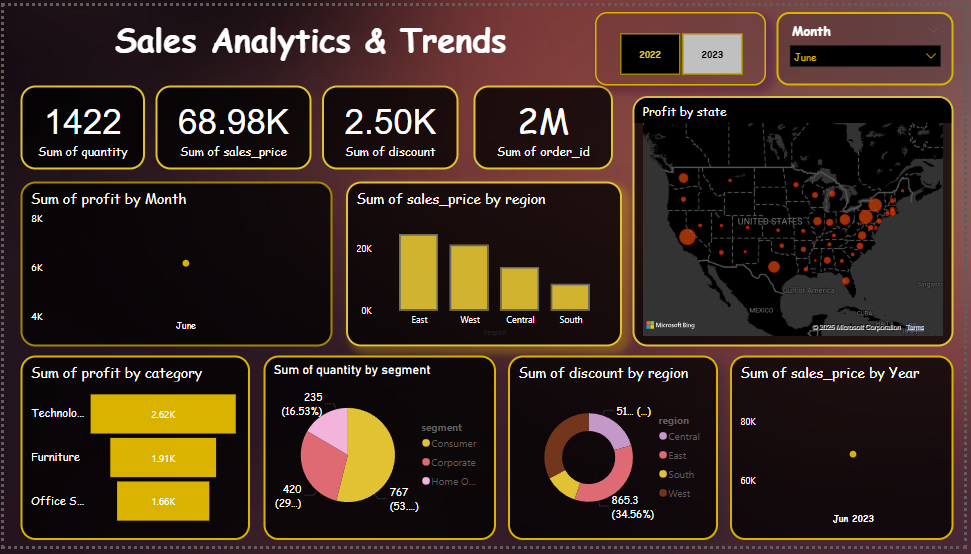

The dashboard page shown, as its layout file describes it:
{"tool":"powerbi","page":{"name":"Page 1","canvas":[1280,720],"ordinal":0},"visuals":[{"type":"card","fields":{"Values":["Sum(orders_modified.order_id)"]},"box":[626,106,186,112],"z":0},{"type":"clusteredColumnChart","fields":{"Category":["orders_modified.region"],"Y":["Sum(orders_modified.sales_price)"]},"box":[456,234,368,220],"z":1000},{"type":"areaChart","fields":{"Category":["orders_modified.order_date.Variation.Date Hierarchy.Year"],"Y":["Sum(orders_modified.sales_price)"]},"box":[968,466,298,246],"z":2000},{"type":"donutChart","fields":{"Y":["Sum(orders_modified.discount)"],"Series":["orders_modified.region"]},"box":[672,466,280,246],"z":3000},{"type":"funnel","fields":{"Category":["orders_modified.category"],"Y":["Sum(orders_modified.profit)"]},"box":[22,466,306,246],"z":4000},{"type":"lineStackedColumnComboChart","fields":{"Category":["orders_modified.order_date.Variation.Date Hierarchy.Month"],"Y2":["Sum(orders_modified.profit)"]},"box":[22,234,416,220],"z":5000},{"type":"map","title":"Profit by state","fields":{"Category":["orders_modified.state"],"Size":["Sum(orders_modified.profit)"]},"box":[838,120,428,334],"z":6000},{"type":"pieChart","fields":{"Category":["orders_modified.segment"],"Y":["Sum(orders_modified.quantity)"]},"box":[346,466,310,246],"z":7000},{"type":"slicer","fields":{"Values":["orders_modified.order_date.Variation.Date Hierarchy.Year"]},"box":[788,8,228,98],"z":8000},{"type":"card","fields":{"Values":["Sum(orders_modified.quantity)"]},"box":[22,106,166,112],"z":9000},{"type":"card","fields":{"Values":["Sum(orders_modified.discount)"]},"box":[424,106,182,112],"z":10000},{"type":"card","fields":{"Values":["Sum(orders_modified.sales_price)"]},"box":[202,106,208,112],"z":11000},{"type":"textbox","box":[86,8,664,128],"z":12000},{"type":"slicer","fields":{"Values":["orders_modified.order_date.Variation.Date Hierarchy.Month"]},"box":[1030,8,236,98],"z":13000}]}

Visuals, with their boxes in screenshot pixels (x1, y1, x2, y2), scaled from the page's 1280x720 canvas onto the 971x554 screenshot:
card - Sum(orders_modified.order_id): {"left": 475, "top": 82, "right": 616, "bottom": 168}
clusteredColumnChart - orders_modified.region x Sum(orders_modified.sales_price): {"left": 346, "top": 180, "right": 625, "bottom": 349}
areaChart - orders_modified.order_date.Variation.Date Hierarchy.Year x Sum(orders_modified.sales_price): {"left": 734, "top": 359, "right": 960, "bottom": 548}
donutChart - Sum(orders_modified.discount) x orders_modified.region: {"left": 510, "top": 359, "right": 722, "bottom": 548}
funnel - orders_modified.category x Sum(orders_modified.profit): {"left": 17, "top": 359, "right": 249, "bottom": 548}
lineStackedColumnComboChart - orders_modified.order_date.Variation.Date Hierarchy.Month x Sum(orders_modified.profit): {"left": 17, "top": 180, "right": 332, "bottom": 349}
"Profit by state" map: {"left": 636, "top": 92, "right": 960, "bottom": 349}
pieChart - orders_modified.segment x Sum(orders_modified.quantity): {"left": 262, "top": 359, "right": 498, "bottom": 548}
slicer - orders_modified.order_date.Variation.Date Hierarchy.Year: {"left": 598, "top": 6, "right": 771, "bottom": 82}
card - Sum(orders_modified.quantity): {"left": 17, "top": 82, "right": 143, "bottom": 168}
card - Sum(orders_modified.discount): {"left": 322, "top": 82, "right": 460, "bottom": 168}
card - Sum(orders_modified.sales_price): {"left": 153, "top": 82, "right": 311, "bottom": 168}
textbox: {"left": 65, "top": 6, "right": 569, "bottom": 105}
slicer - orders_modified.order_date.Variation.Date Hierarchy.Month: {"left": 781, "top": 6, "right": 960, "bottom": 82}
